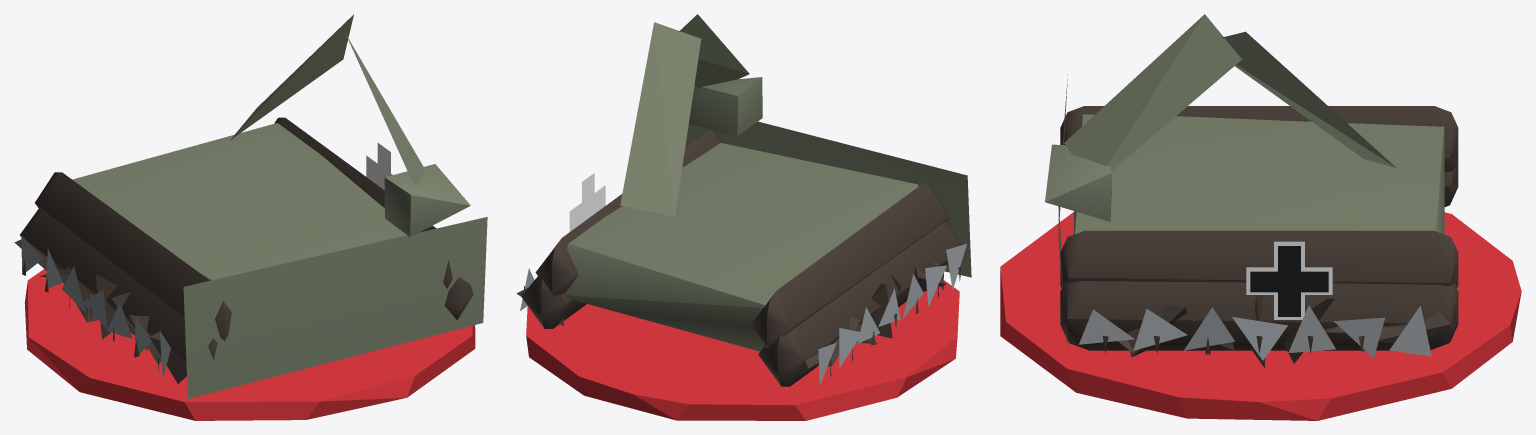
The model's file is germany_engineer_lod1.glb.
3 views of the same model, side by side, from view 1: azimuth 30°, elevation 25°; view 2: azimuth 150°, elevation 25°; view 3: azimuth 270°, elevation 25° (orthographic). The views are drawn at different scales.
Parts seen in each view (by area): view 1: body_hull, base_pedestal; view 2: body_hull, base_pedestal; view 3: body_hull, base_pedestal.
Part boxes in pixels (box(x1,y1,x2,y2)): body_hull: box(14, 14, 487, 398); base_pedestal: box(24, 269, 475, 420); body_hull: box(516, 14, 971, 386); base_pedestal: box(526, 280, 959, 420); body_hull: box(1045, 14, 1458, 367); base_pedestal: box(1000, 212, 1521, 420).
Bounding box in the file's own units: 0.7751 × 0.553 × 0.7751.
